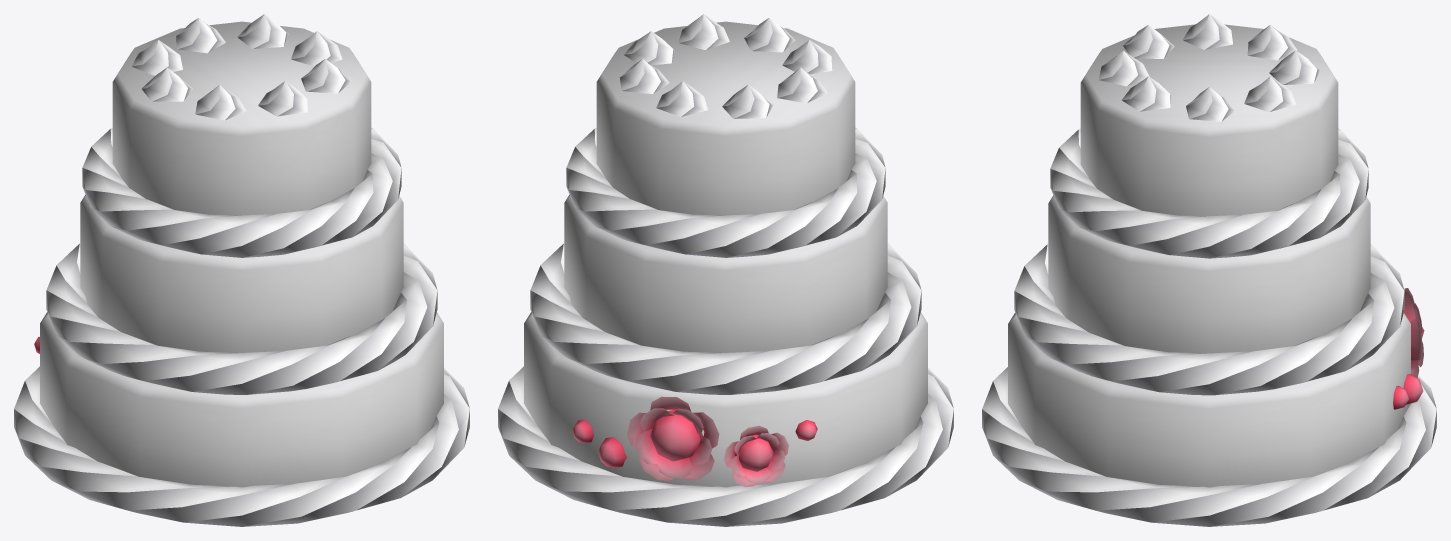
The model's file is m_WeddingCake05.fbx.
3 views of the same model, side by side, from view 1: azimuth 30°, elevation 25°; view 2: azimuth 150°, elevation 25°; view 3: azimuth 270°, elevation 25° (orthographic).
Visible parts, largest first — view 1: m_WeddingCake05; view 2: m_WeddingCake05; view 3: m_WeddingCake05.
Boxes of the visible parts, x1=… form: m_WeddingCake05: x1=14, y1=14, x2=469, y2=526; m_WeddingCake05: x1=498, y1=14, x2=953, y2=526; m_WeddingCake05: x1=982, y1=14, x2=1436, y2=526.
Size of the model in its own units: 32 by 29.61 by 31.61.
